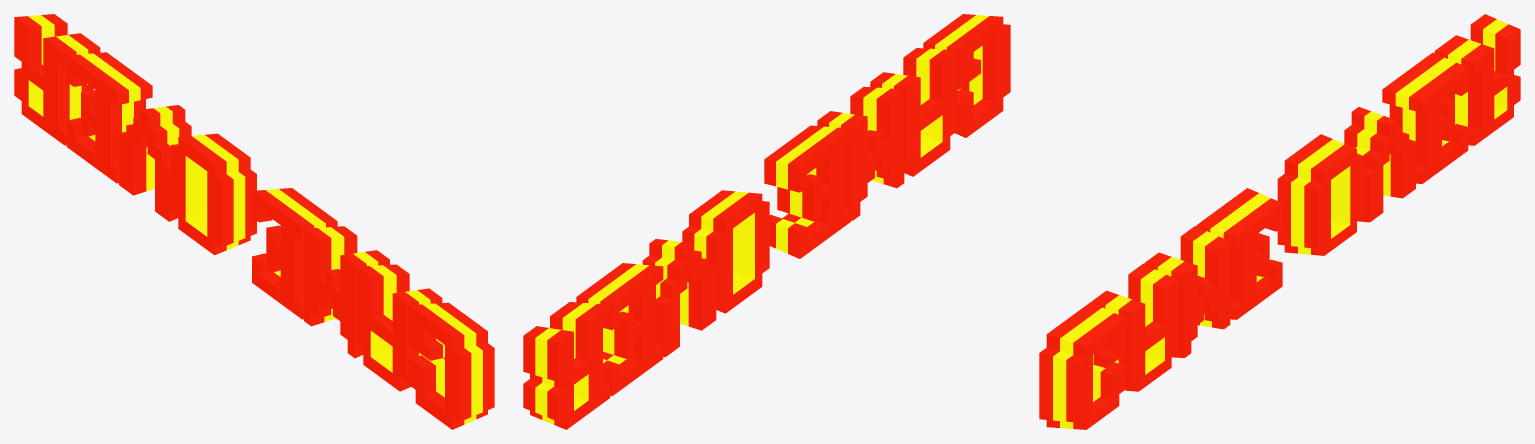
Rendered from gameover.fbx.
3 renders of one model, left to right at view 1: azimuth 30°, elevation 25°; view 2: azimuth 150°, elevation 25°; view 3: azimuth 330°, elevation 25°, orthographic.
Parts seen in each view (by area): view 1: Gameover; view 2: Gameover; view 3: Gameover.
Boxes of the visible parts, x1,y1,x2,y2 form: Gameover: [14, 14, 494, 429]; Gameover: [523, 14, 1010, 429]; Gameover: [1039, 14, 1520, 429].
Bounding box in the file's own units: 612 × 1439 × 12503.
